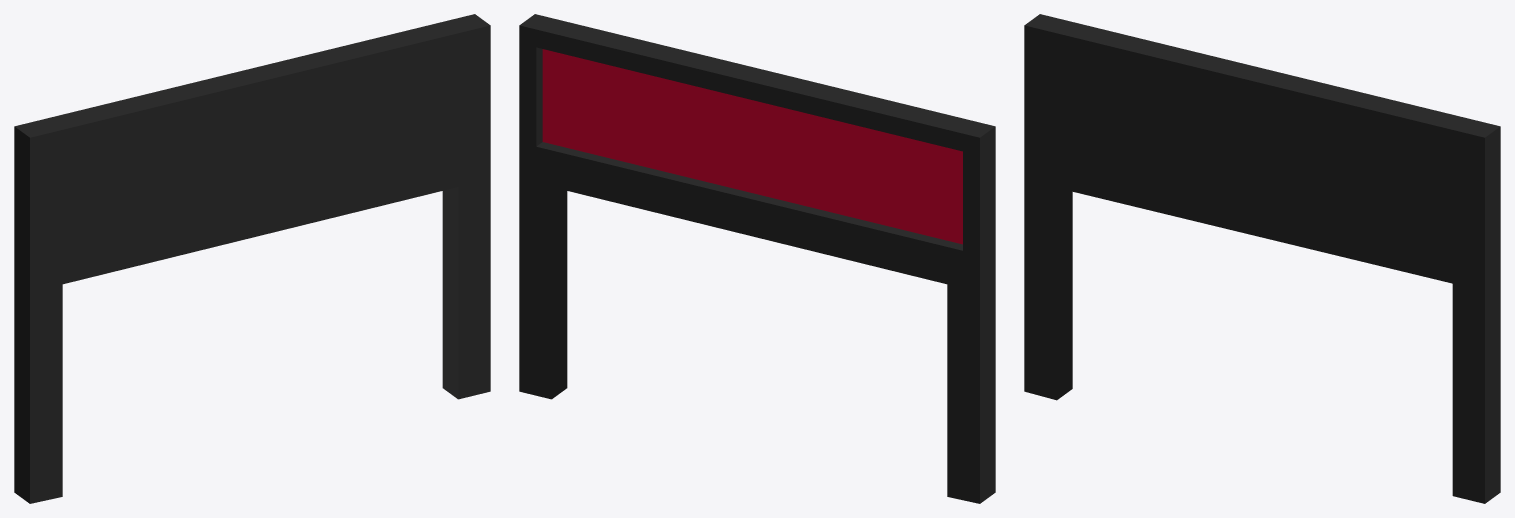
The model's file is SM_Bell_GoalPost.fbx.
3 views of the same model, side by side, from view 1: azimuth 30°, elevation 25°; view 2: azimuth 150°, elevation 25°; view 3: azimuth 330°, elevation 25° (orthographic).
Parts seen in each view (by area): view 1: GoalPost Bell Map; view 2: GoalPost Bell Map; view 3: GoalPost Bell Map.
Part boxes in pixels (box(x1,y1,x2,y2)): GoalPost Bell Map: box(14, 14, 490, 503); GoalPost Bell Map: box(519, 14, 995, 503); GoalPost Bell Map: box(1024, 14, 1500, 503).
Size of the model in its own units: 84.33 by 64.23 by 4.94.
